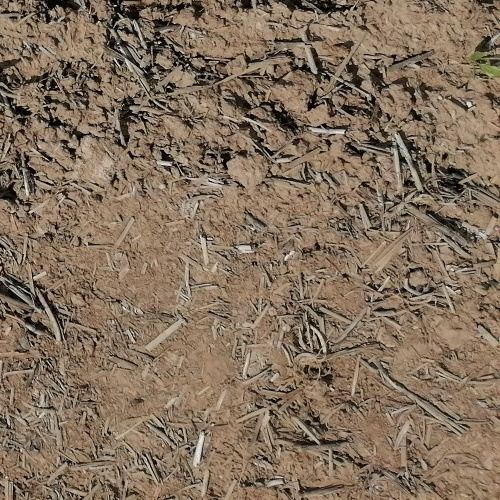beet: (464, 46, 500, 83)
